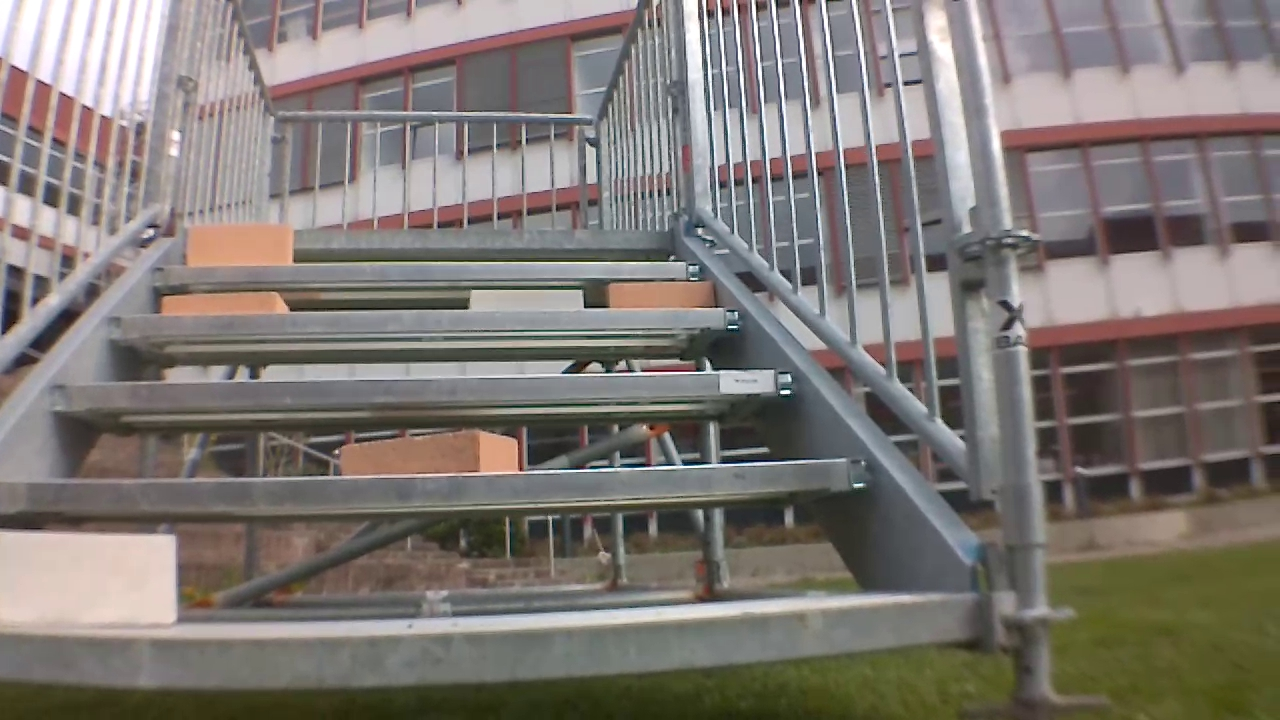brick: (1, 534, 177, 622), (340, 429, 516, 474), (187, 222, 292, 265), (609, 281, 713, 308), (161, 291, 286, 313), (471, 289, 582, 309)
edge: (3, 593, 982, 687), (2, 459, 873, 509), (48, 370, 794, 406), (106, 308, 743, 332), (153, 261, 700, 279), (179, 230, 672, 248)
stairs: (4, 4, 1084, 712)
steps: (9, 215, 991, 694)
